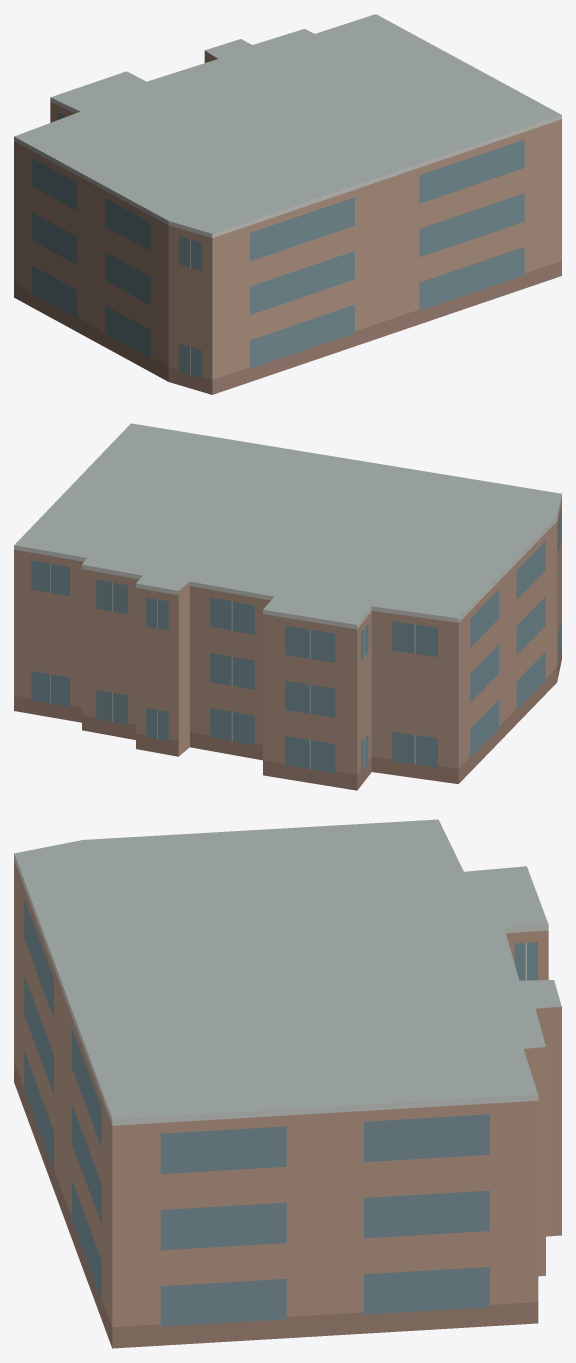
File: survey-upis-33044765.glb
The picture shows the model from 3 angles, top to bottom: view 1: azimuth 30°, elevation 25°; view 2: azimuth 150°, elevation 25°; view 3: azimuth 270°, elevation 25°; orthographic projection. The views are drawn at different scales.
Parts seen in each view (by area): view 1: survey-upis-33044765.tmp; view 2: survey-upis-33044765.tmp; view 3: survey-upis-33044765.tmp.
Part boxes in pixels (x1,y1,x2,y2): survey-upis-33044765.tmp: (14, 14, 561, 394); survey-upis-33044765.tmp: (14, 423, 561, 790); survey-upis-33044765.tmp: (14, 819, 561, 1348).
Size of the model in its own units: 25.77 by 9.15 by 19.87.
